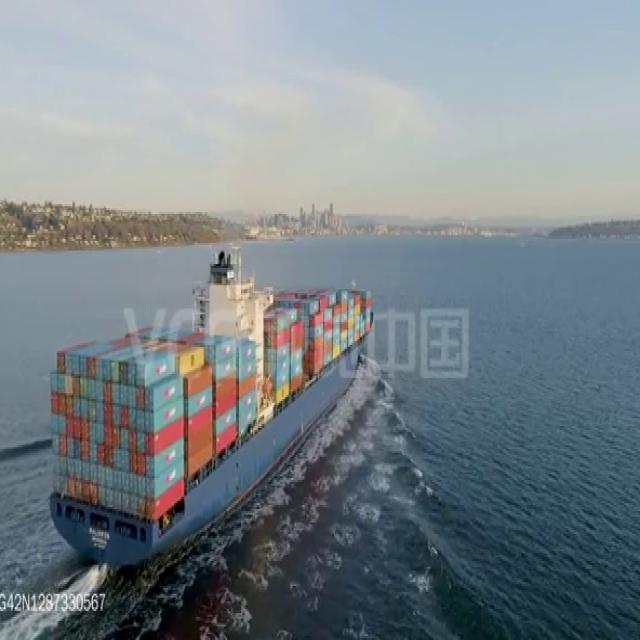cargoship: (43, 244, 374, 574)
